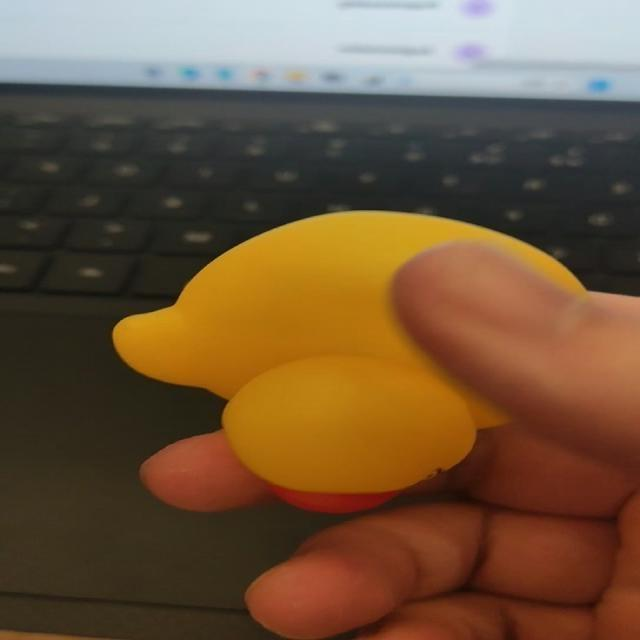rubber-duck: (112, 210, 582, 493)
